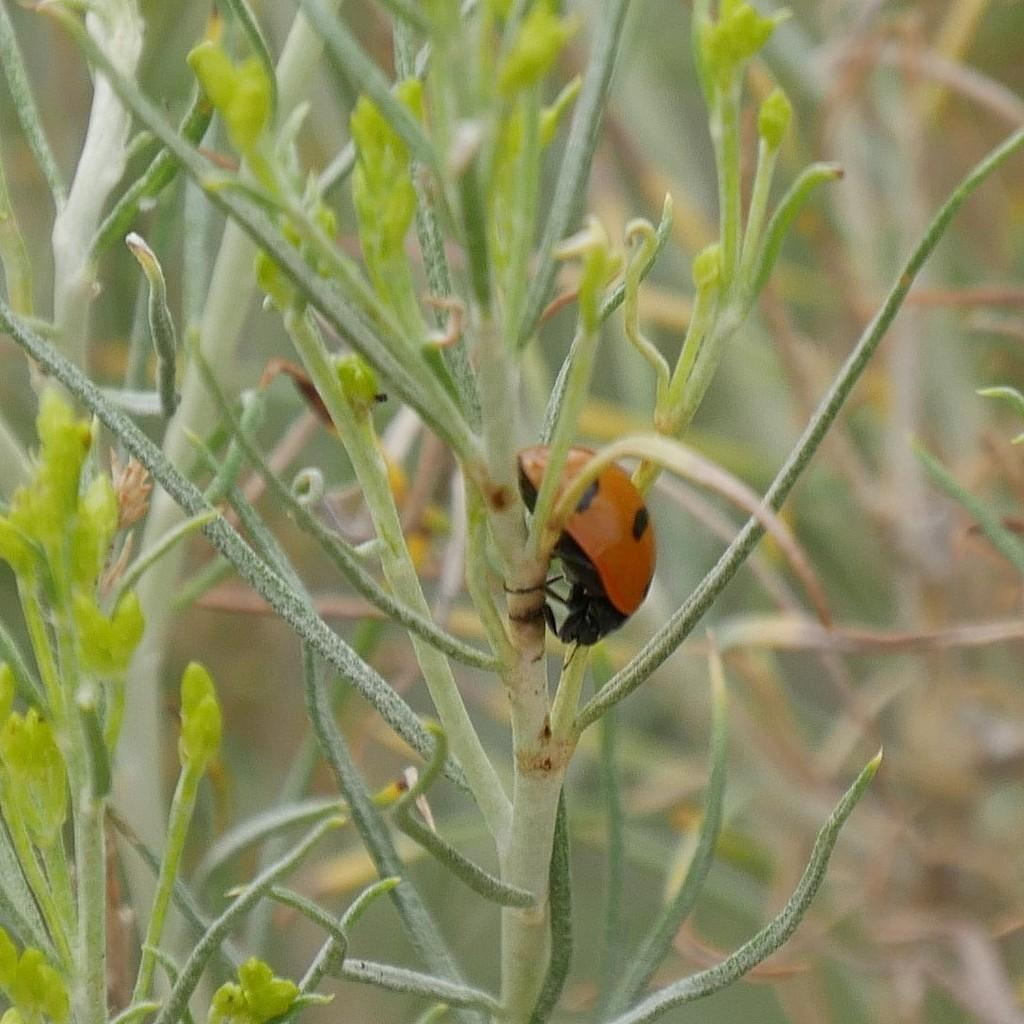ladybug: (502, 439, 663, 675)
